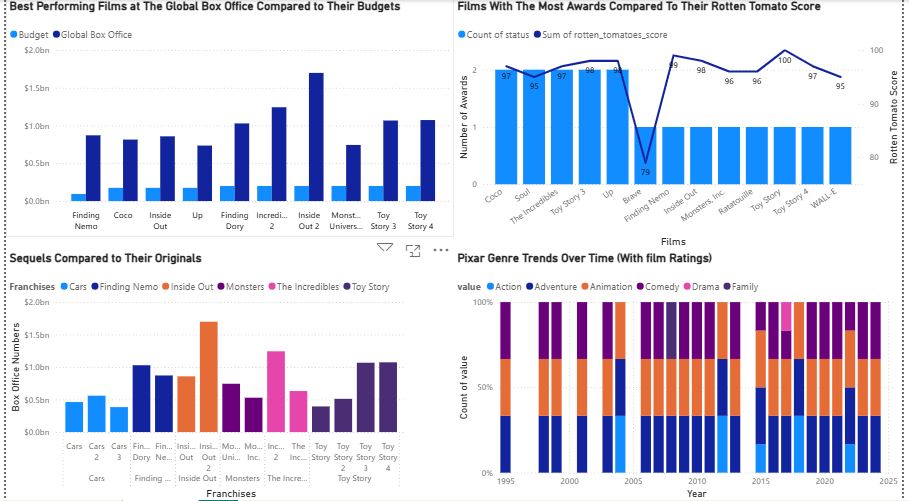

The page's visual inventory and layout, read from the dashboard file:
{"tool":"powerbi","page":{"name":"Page 1","canvas":[1280,720],"ordinal":0},"visuals":[{"type":"clusteredColumnChart","title":"Best Performing Films at The Global Box Office Compared to Their Budgets","fields":{"Category":["box_office.film"],"Y":["Sum(box_office.budget)","Sum(box_office.box_office_worldwide)"]},"box":[0,0,640,340],"z":0},{"type":"lineClusteredColumnComboChart","title":"Films With The Most Awards Compared To Their Rotten Tomato Score","fields":{"Category":["public_response.film"],"Y":["CountNonNull(academy.status)"],"Y2":["Sum(public_response.rotten_tomatoes_score)"]},"box":[640,0,640,360],"z":1000},{"type":"columnChart","title":"Sequels Compared to Their Originals","fields":{"Category":["box_office.film (groups)","box_office.film"],"Y":["Sum(box_office.box_office_worldwide)"],"Series":["box_office.film (groups)"]},"box":[0,360,576.7,360],"z":2000},{"type":"hundredPercentStackedColumnChart","title":"Pixar Genre Trends Over Time (With film Ratings)","fields":{"Category":["pixar_films.release_date.Variation.Date Hierarchy.Year"],"Series":["genres.value"],"Y":["CountNonNull(genres.value)"]},"box":[640,360,640,360],"z":5000}]}

Visuals, with their boxes in screenshot pixels (x1, y1, x2, y2), scaled from the page's 1280x720 canvas onto the 909x501 screenshot:
"Best Performing Films at The Global Box Office Compared to Their Budgets" clusteredColumnChart: [0, 0, 454, 237]
"Films With The Most Awards Compared To Their Rotten Tomato Score" lineClusteredColumnComboChart: [454, 0, 908, 250]
"Sequels Compared to Their Originals" columnChart: [0, 250, 410, 500]
"Pixar Genre Trends Over Time (With film Ratings)" hundredPercentStackedColumnChart: [454, 250, 908, 500]
